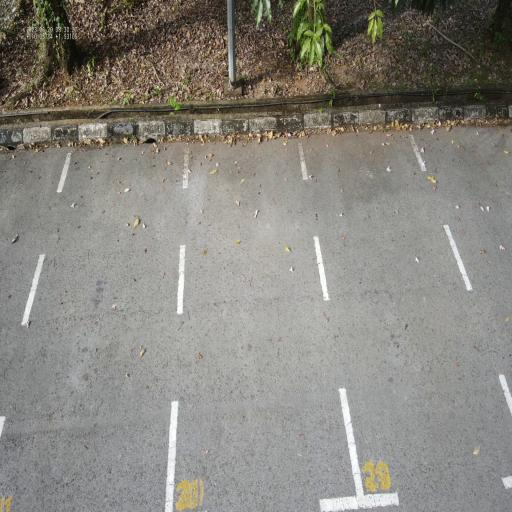Empty: (163, 124, 367, 512)
